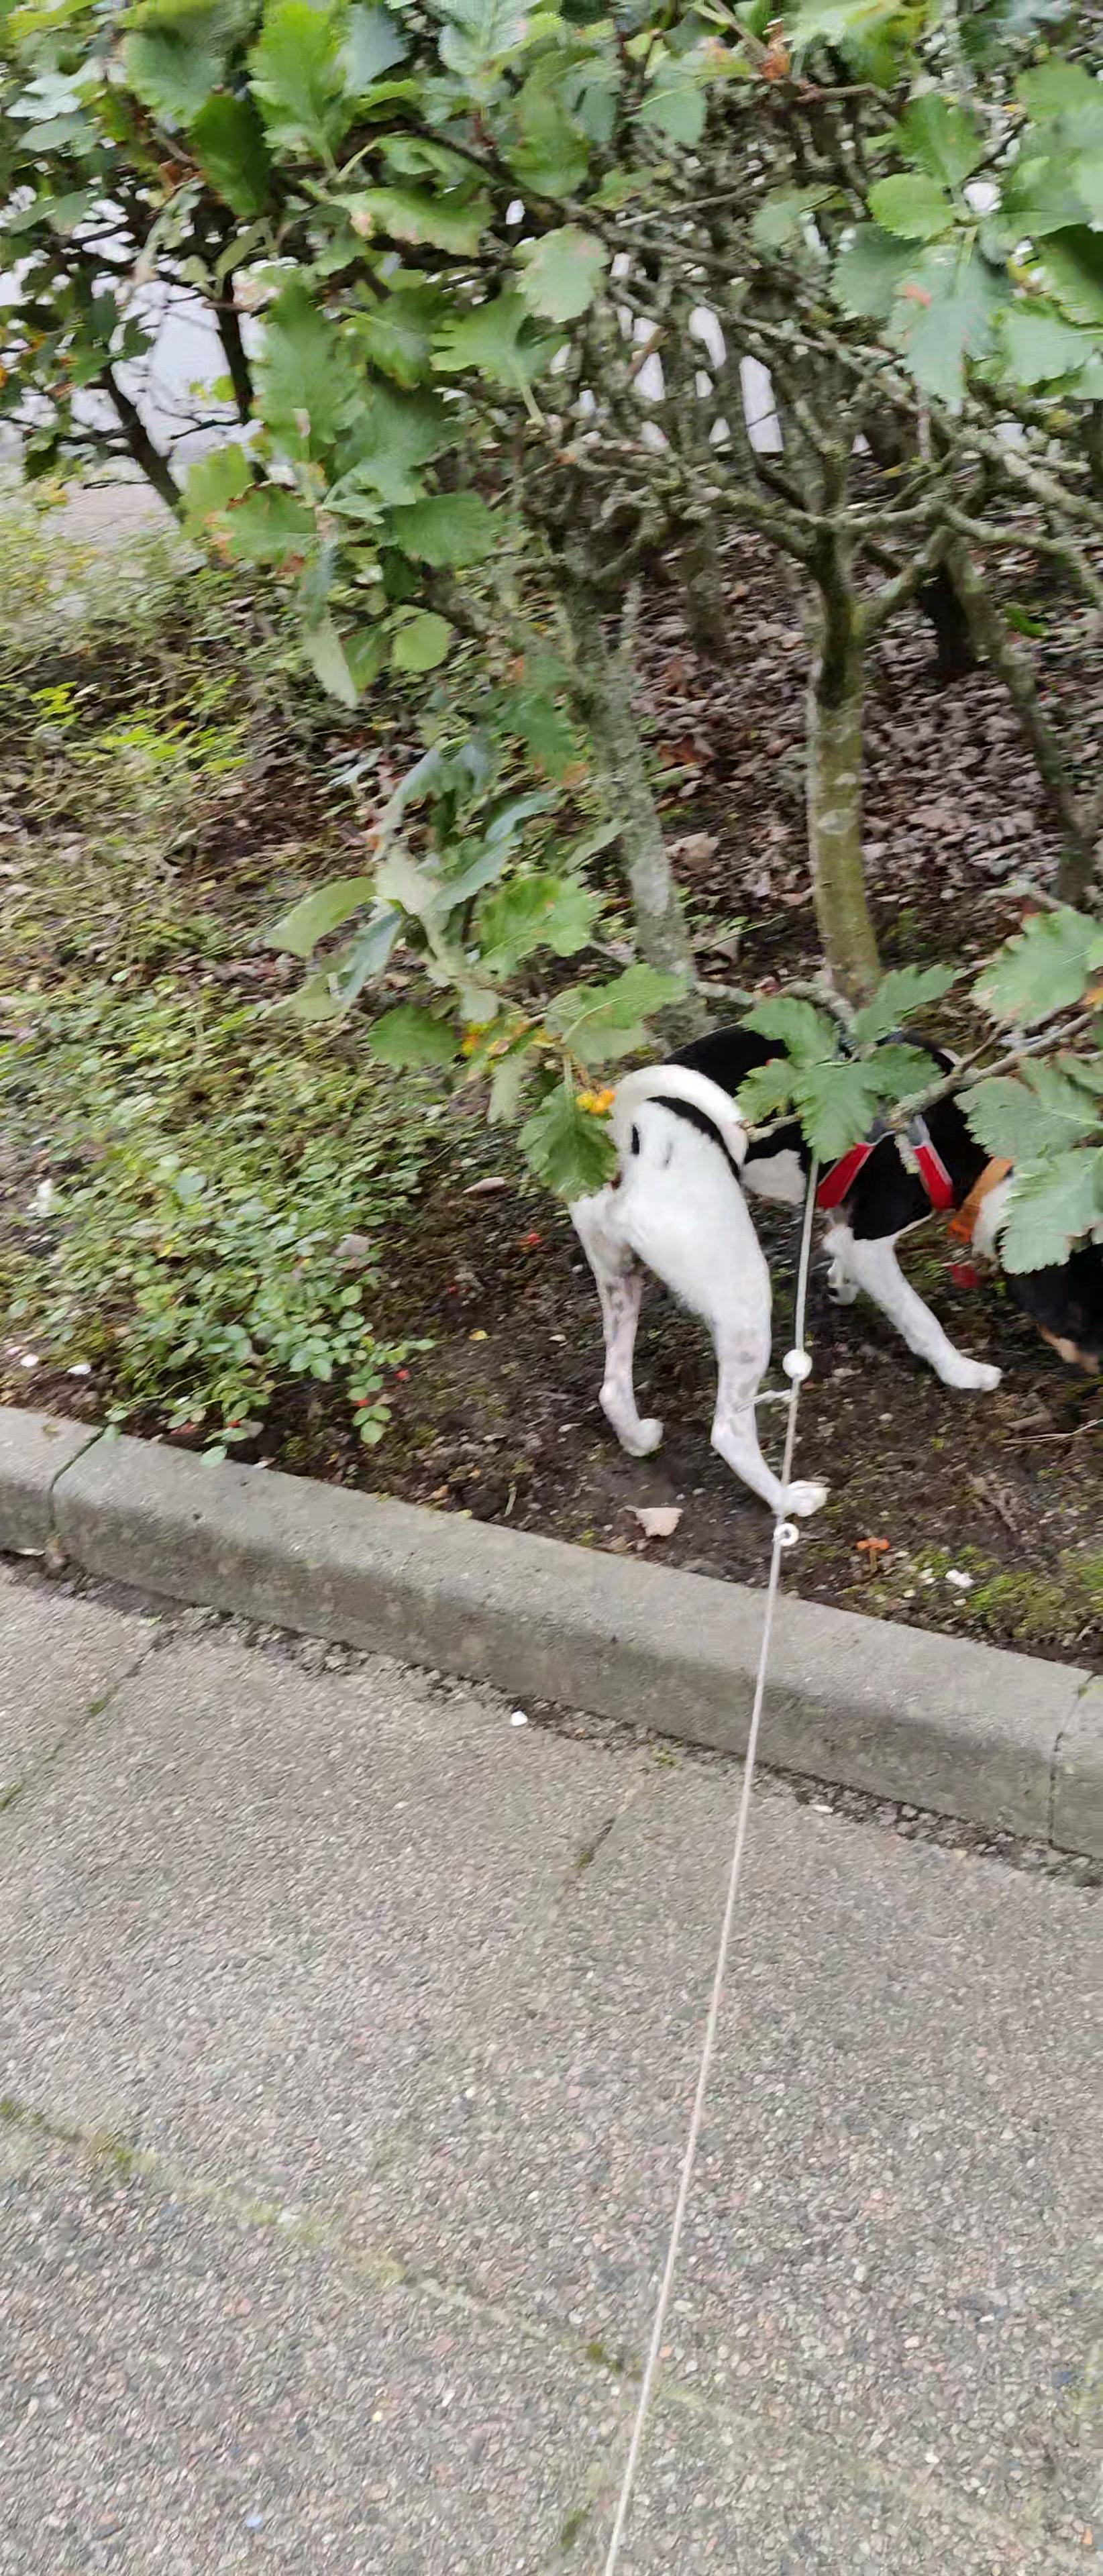Dog: (544, 1009, 1103, 1521)
